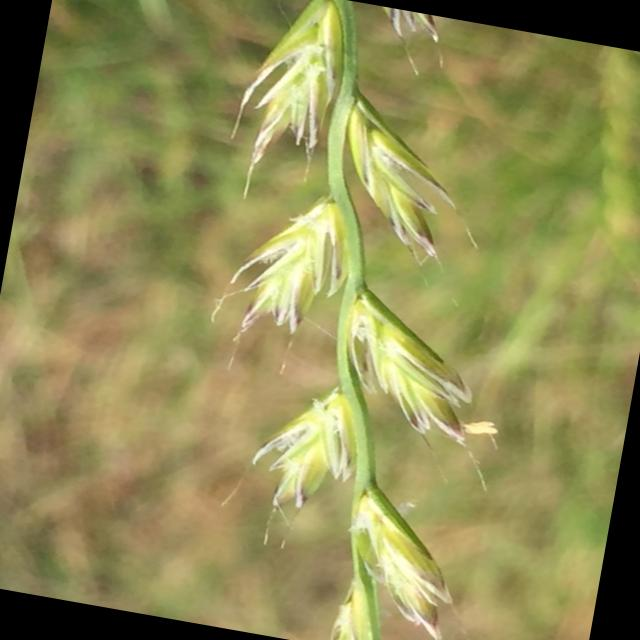Lolium: (140, 0, 585, 640)
